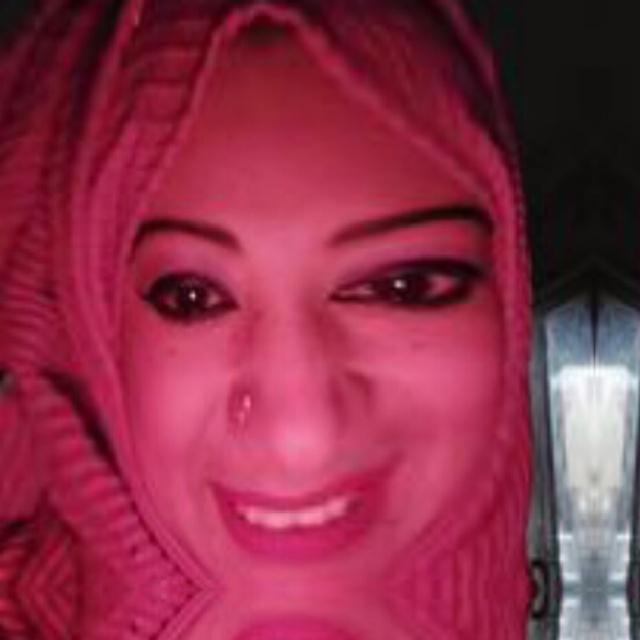Happy: (67, 133, 560, 610)
